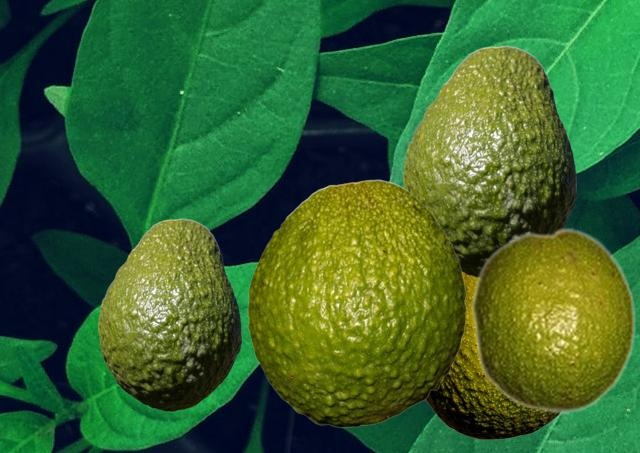avocado: (247, 179, 465, 426), (403, 45, 575, 277), (470, 226, 636, 414), (98, 218, 240, 410), (425, 274, 559, 438)
